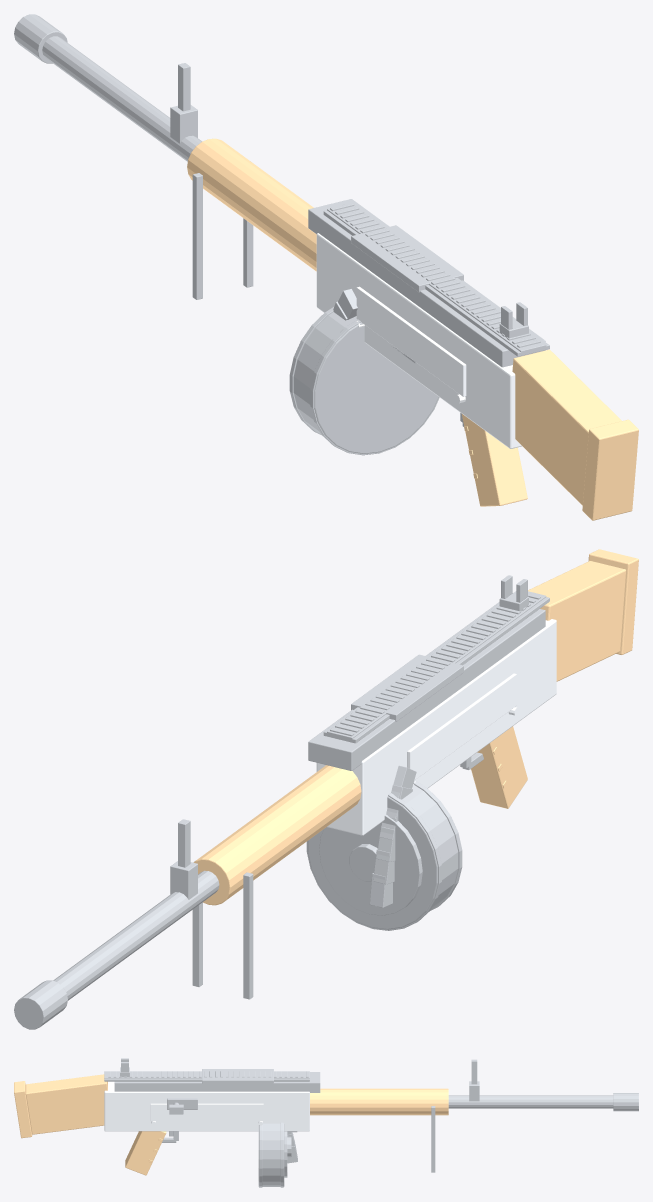
Rendered from rpd.glb.
The picture shows the model from 3 angles, top to bottom: view 1: azimuth 30°, elevation 25°; view 2: azimuth 150°, elevation 25°; view 3: azimuth 270°, elevation 25°; orthographic projection. The views are drawn at different scales.
Parts seen in each view (by area): view 1: mag, Receiver, StockBody, Handguard, FrameRail, StockBodyPlate, TopCover, Barrel, ReceiverRibL, Grip, TopCoverRib, StockIrons (+3 smaller); view 2: mag, Receiver, Handguard, StockBody, FrameRail, TopCover, Barrel, ReceiverRibL, Grip, TopCoverRib, DrumBelt, StockIrons (+4 smaller); view 3: Receiver, StockBody, Handguard, Barrel, TopCover, mag, ReceiverRibR, FrameRail, Grip, TopCoverRib, StockBodyPlate, StockIrons (+3 smaller).
Part boxes in pixels (x1=…): mag: x1=289, y1=307, x2=439, y2=455; Receiver: x1=316, y1=233, x2=521, y2=448; StockBody: x1=512, y1=349, x2=621, y2=505; Handguard: x1=187, y1=138, x2=316, y2=271; FrameRail: x1=323, y1=203, x2=549, y2=356; StockBodyPlate: x1=582, y1=419, x2=638, y2=520; TopCover: x1=308, y1=199, x2=545, y2=367; Barrel: x1=42, y1=36, x2=201, y2=161; ReceiverRibL: x1=356, y1=286, x2=466, y2=396; Grip: x1=462, y1=414, x2=527, y2=506; TopCoverRib: x1=351, y1=225, x2=463, y2=292; StockIrons: x1=170, y1=63, x2=528, y2=338; mag: x1=306, y1=780, x2=462, y2=930; Receiver: x1=316, y1=619, x2=556, y2=835; Handguard: x1=194, y1=765, x2=361, y2=905; StockBody: x1=528, y1=561, x2=626, y2=681; FrameRail: x1=323, y1=591, x2=549, y2=743; TopCover: x1=308, y1=602, x2=545, y2=770; Barrel: x1=53, y1=870, x2=219, y2=1000; ReceiverRibL: x1=407, y1=673, x2=516, y2=779; Grip: x1=471, y1=726, x2=527, y2=808; TopCoverRib: x1=351, y1=654, x2=463, y2=721; DrumBelt: x1=369, y1=765, x2=416, y2=907; StockIrons: x1=170, y1=575, x2=528, y2=899; Receiver: x1=104, y1=1081, x2=309, y2=1131; StockBody: x1=25, y1=1074, x2=107, y2=1134; Handguard: x1=310, y1=1088, x2=448, y2=1115; Barrel: x1=448, y1=1095, x2=613, y2=1108; TopCover: x1=114, y1=1072, x2=320, y2=1092; mag: x1=258, y1=1122, x2=291, y2=1187; ReceiverRibR: x1=150, y1=1103, x2=263, y2=1120; FrameRail: x1=104, y1=1071, x2=309, y2=1081; Grip: x1=125, y1=1131, x2=166, y2=1175; TopCoverRib: x1=202, y1=1069, x2=273, y2=1083; StockBodyPlate: x1=14, y1=1081, x2=32, y2=1138; StockIrons: x1=120, y1=1058, x2=479, y2=1101.
Bounding box in the file's own units: 0.1578 × 0.2695 × 1.22.
